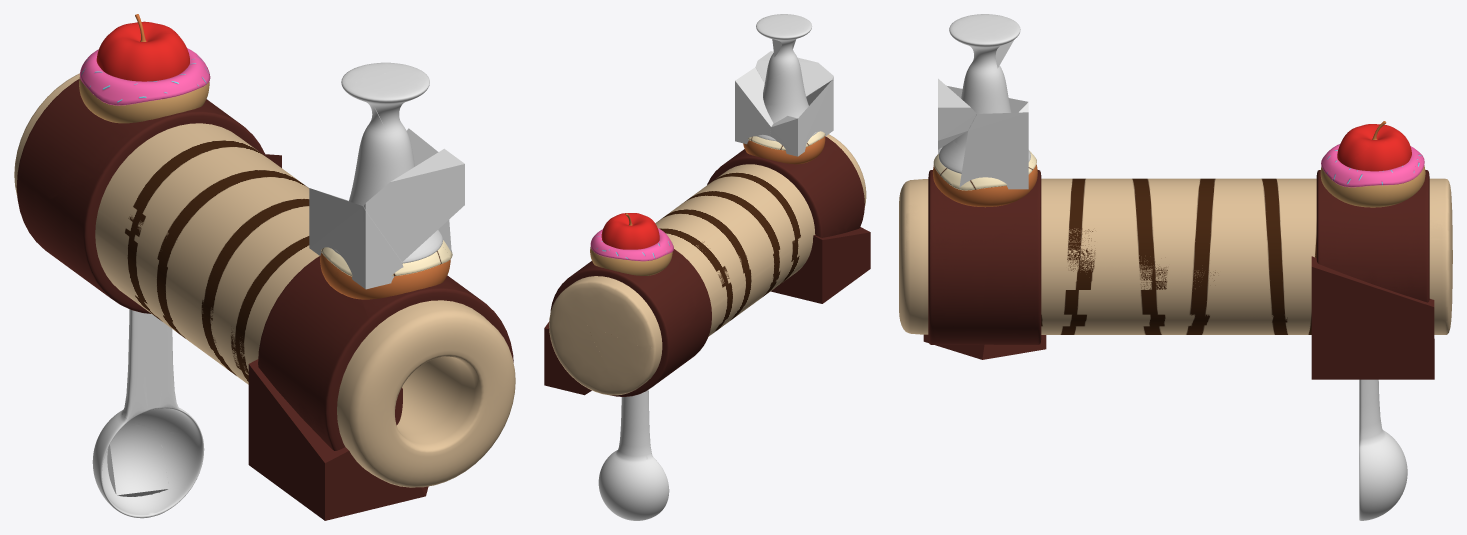
File: GranadeLauncherCells.fbx
The picture shows the model from 3 angles, left to right: view 1: azimuth 30°, elevation 25°; view 2: azimuth 150°, elevation 25°; view 3: azimuth 270°, elevation 25°; orthographic projection. The views are drawn at different scales.
Visible parts, largest first — view 1: Canudo, Canudo_cell, Chocolate_2, Chocolate_1, Chocolate_1_cell, Colher, Sorvete_cell.001, Copo, Chocolate_1_cell.001, Sorvete_cell.002, Chocolate_2_cell.001, Colher_cell.002 (+18 smaller); view 2: Canudo, Chocolate_2, Colher, Chocolate_1_cell, Chocolate_1, Canudo_cell, Canudo_cell.002, Chocolate_1_cell.001, Sorvete_cell.002, Sorvete_cell.003, Canudo_cell.003, Chocolate_2_cell.001 (+16 smaller); view 3: Canudo, Chocolate_1, Chocolate_2_cell.003, Canudo_cell, Chocolate_2, Chocolate_2_cell, Sorvete_cell.003, Chocolate_1_cell.004, Chocolate_1_cell.003, Colher, Copo, Chocolate_1_cell.002 (+12 smaller).
Part boxes in pixels (box(x1,y1,x2,y2)): Canudo: box(14, 73, 515, 486); Canudo_cell: box(95, 148, 515, 487); Chocolate_2: box(16, 79, 265, 313); Chocolate_1: box(258, 256, 513, 450); Chocolate_1_cell: box(248, 359, 428, 520); Colher: box(92, 309, 204, 518); Sorvete_cell.001: box(363, 148, 464, 261); Copo: box(332, 62, 442, 263); Chocolate_1_cell.001: box(258, 266, 372, 450); Sorvete_cell.002: box(309, 188, 403, 289); Chocolate_2_cell.001: box(18, 100, 218, 198); Colher_cell.002: box(122, 310, 202, 440); Canudo: box(549, 134, 866, 395); Chocolate_2: box(550, 249, 711, 396); Colher: box(599, 390, 669, 520); Chocolate_1_cell: box(770, 227, 870, 303); Chocolate_1: box(709, 141, 864, 237); Canudo_cell: box(683, 229, 815, 336); Canudo_cell.002: box(564, 276, 662, 347); Chocolate_1_cell.001: box(764, 145, 864, 237); Sorvete_cell.002: box(770, 80, 833, 156); Sorvete_cell.003: box(735, 67, 773, 144); Canudo_cell.003: box(549, 300, 615, 395); Chocolate_2_cell.001: box(584, 249, 700, 342); Canudo: box(899, 178, 1452, 334); Chocolate_1: box(928, 170, 1041, 344); Chocolate_2_cell.003: box(1311, 256, 1434, 379); Canudo_cell: box(899, 191, 1305, 334); Chocolate_2: box(1316, 170, 1429, 302); Chocolate_2_cell: box(1316, 202, 1429, 301); Sorvete_cell.003: box(959, 112, 1028, 189); Chocolate_1_cell.004: box(928, 239, 990, 344); Chocolate_1_cell.003: box(982, 207, 1041, 344); Colher: box(1359, 379, 1407, 520); Copo: box(942, 14, 1030, 173); Chocolate_1_cell.002: box(928, 170, 1036, 239).
Size of the model in its own units: 203 by 596 by 611.
